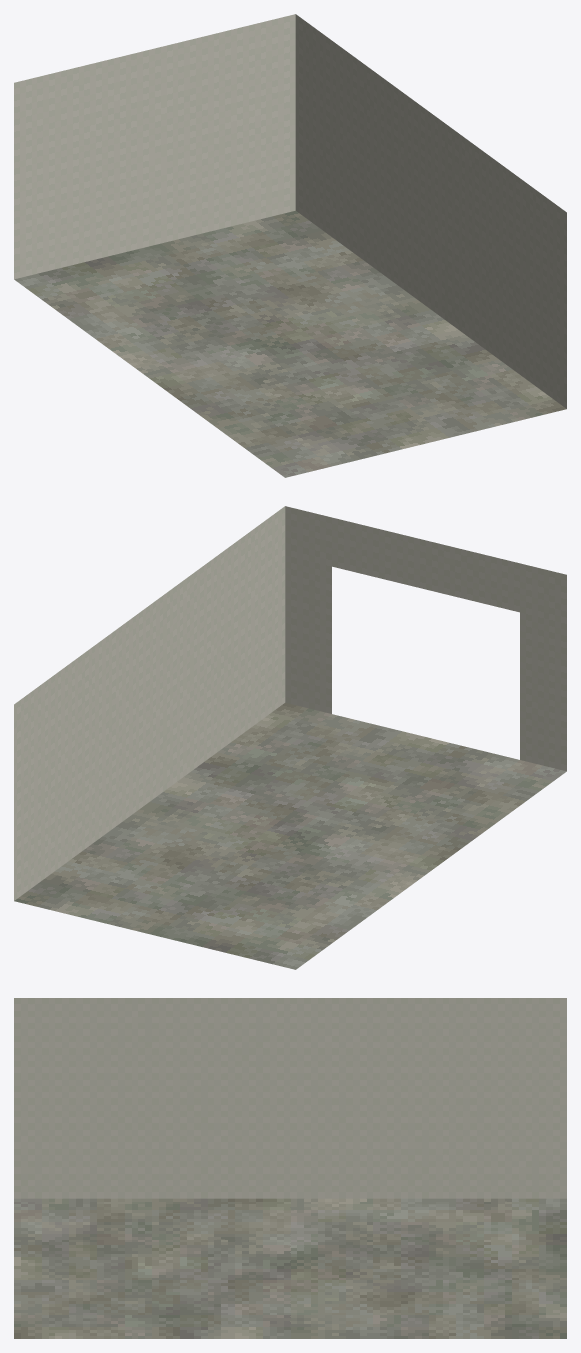
The model's file is TravelAgencySideStairEntrance.glb.
3 views of the same model, one above another, from view 1: azimuth 30°, elevation 25°; view 2: azimuth 150°, elevation 25°; view 3: azimuth 270°, elevation 25° (orthographic).
Visible parts, largest first — view 1: SideStairs_Entrance; view 2: SideStairs_Entrance; view 3: SideStairs_Entrance.
Boxes of the visible parts, left/top/right/bottom form: SideStairs_Entrance: left=14, top=14, right=566, bottom=477; SideStairs_Entrance: left=14, top=506, right=566, bottom=969; SideStairs_Entrance: left=14, top=998, right=566, bottom=1338.
Bounding box in the file's own units: 6 × 4 × 10.
2 materials, 2 textured.
